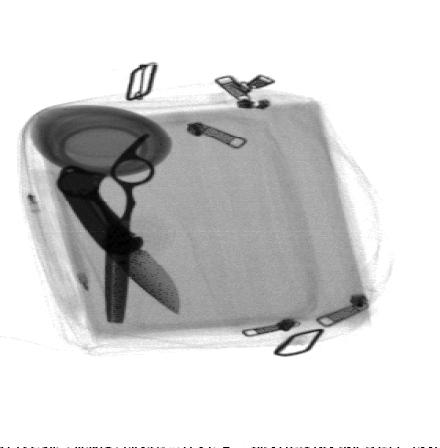Knife: (57, 166, 181, 317)
Scissors: (54, 133, 158, 325)
